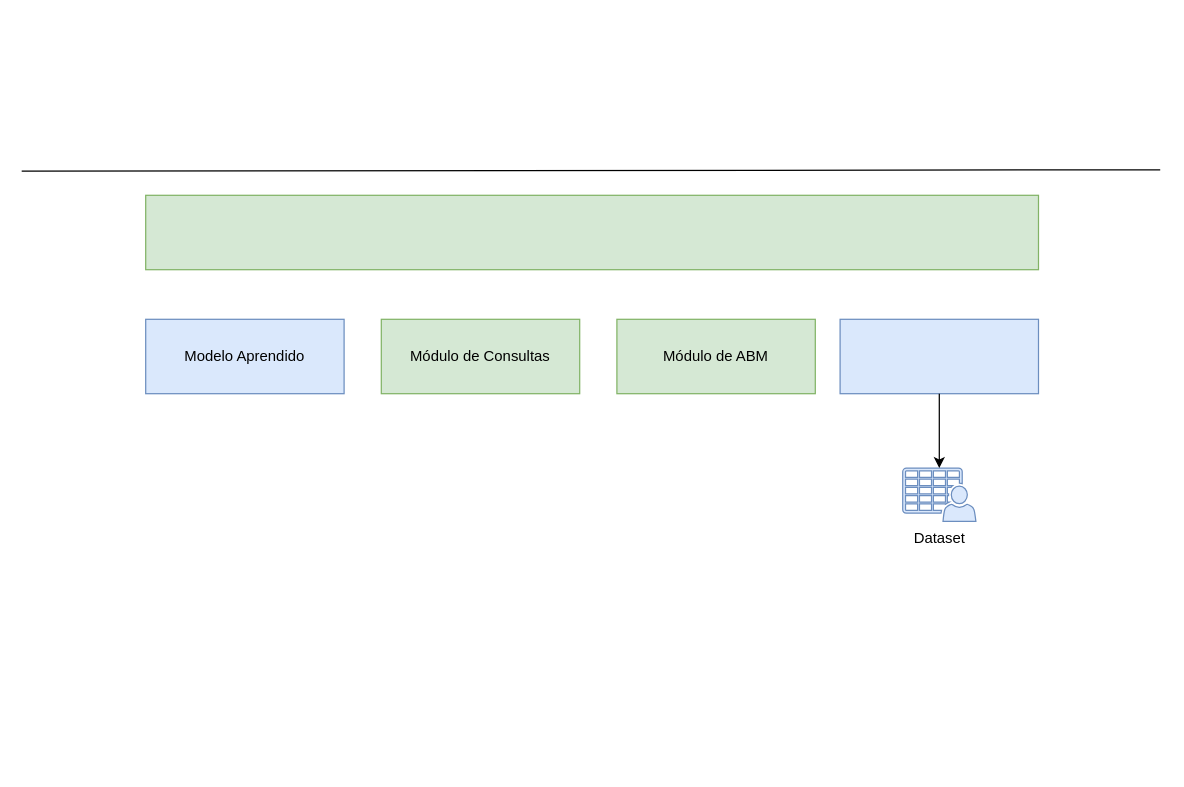
Some shapes in this 1184 by 787 pixel diagram are drawn without their labels. Each missing label, with the centre of its shape:
Interfaz Usuarios: [591,232]
Sistema que genera el modelo: [938,356]
